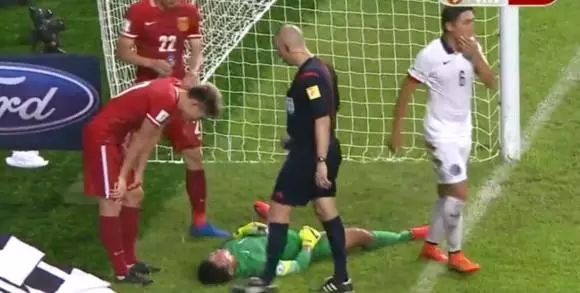fall: (190, 197, 446, 282)
